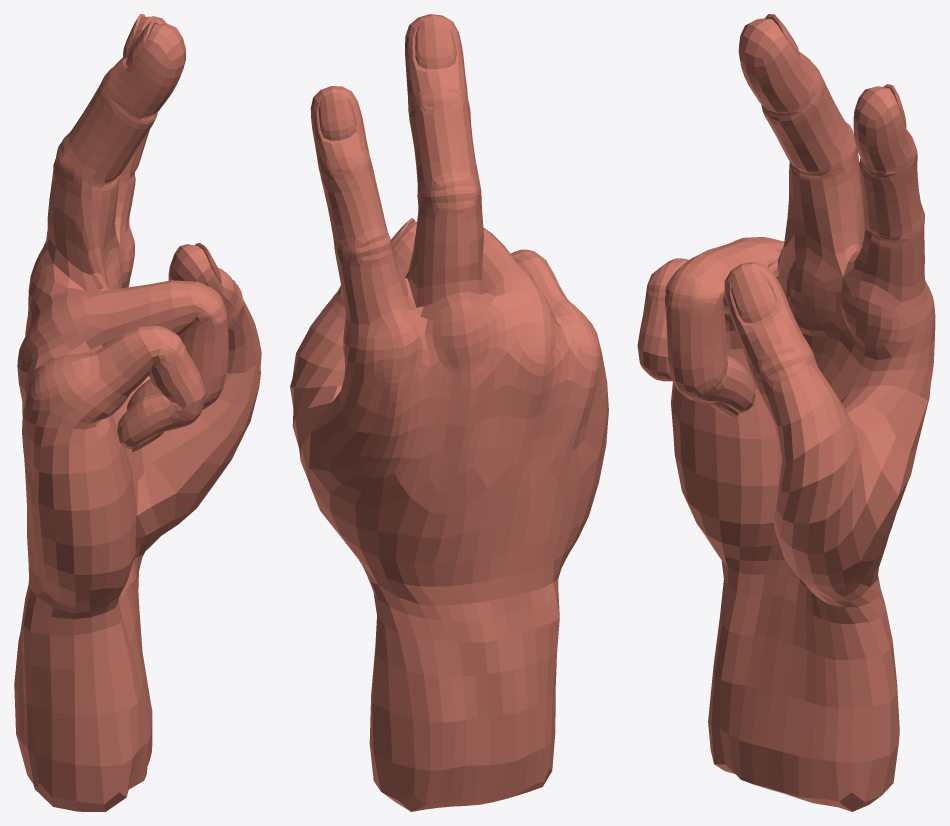
File: arda.glb
3 renders of one model, left to right at view 1: azimuth 30°, elevation 25°; view 2: azimuth 150°, elevation 25°; view 3: azimuth 270°, elevation 25°, orthographic. The views are drawn at different scales.
Visible parts, largest first — view 1: ZBrushPolyMesh3D; view 2: ZBrushPolyMesh3D; view 3: ZBrushPolyMesh3D.
Part boxes in pixels (x1,y1,x2,y2): ZBrushPolyMesh3D: (14,14,261,811); ZBrushPolyMesh3D: (290,14,608,811); ZBrushPolyMesh3D: (637,14,935,811).
Size of the model in its own units: 1.97 by 5.37 by 1.82.
